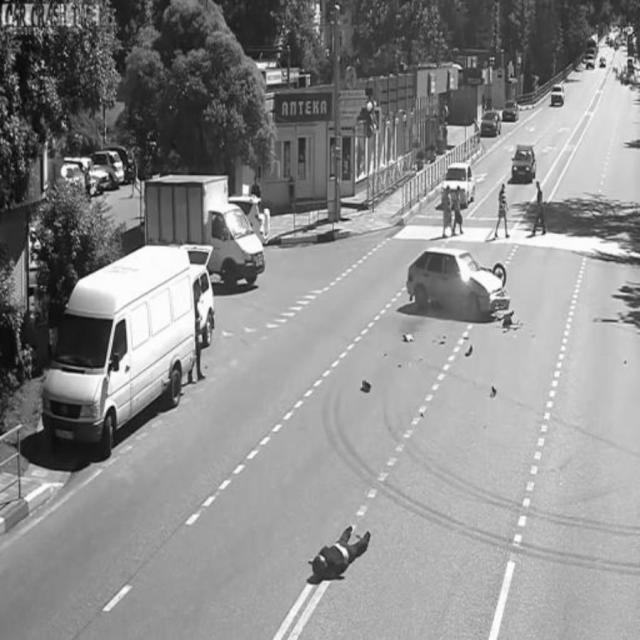person: (306, 516, 376, 586), (439, 179, 465, 236), (493, 177, 513, 243), (529, 179, 549, 237)
vehicle: (41, 249, 189, 445), (142, 176, 266, 282), (405, 248, 515, 329), (441, 160, 477, 206), (92, 152, 128, 189), (511, 142, 538, 187), (480, 108, 504, 138), (500, 98, 520, 124), (550, 84, 566, 108)
